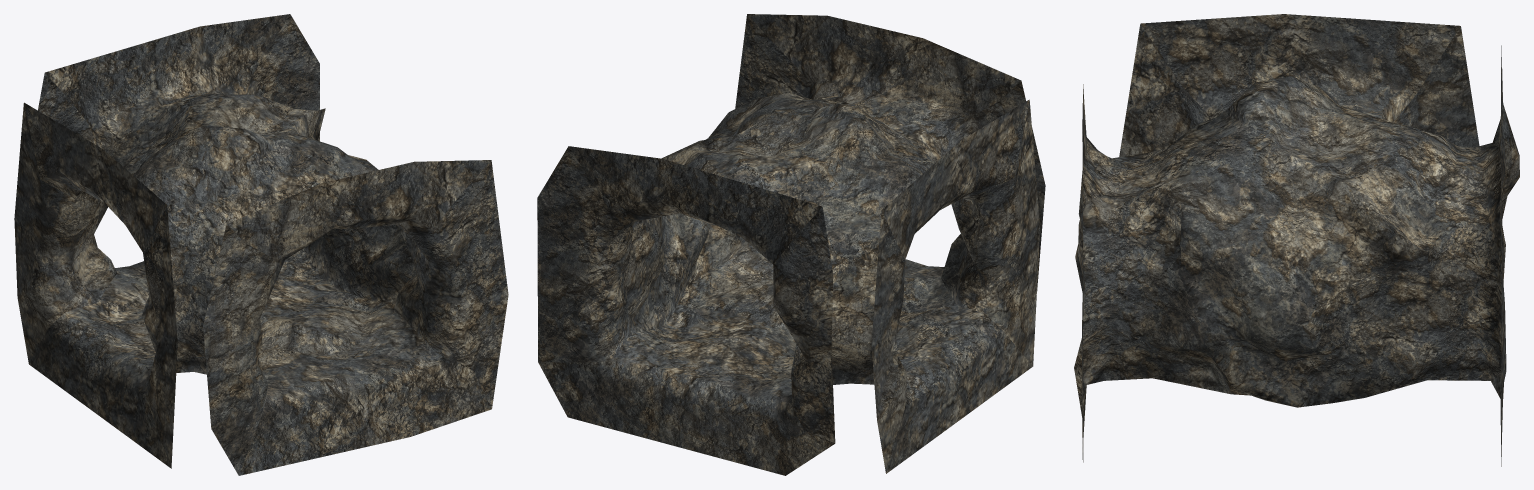
File: Module8.fbx
3 views of the same model, side by side, from view 1: azimuth 30°, elevation 25°; view 2: azimuth 150°, elevation 25°; view 3: azimuth 270°, elevation 25° (orthographic). The views are drawn at different scales.
Parts seen in each view (by area): view 1: cave_el8_800_Group26001; view 2: cave_el8_800_Group26001; view 3: cave_el8_800_Group26001.
Part boxes in pixels (x1,y1,x2,y2): cave_el8_800_Group26001: [14, 14, 508, 475]; cave_el8_800_Group26001: [537, 14, 1045, 475]; cave_el8_800_Group26001: [1074, 14, 1519, 466].
Size of the model in its own units: 9.96 by 8.26 by 10.67.
